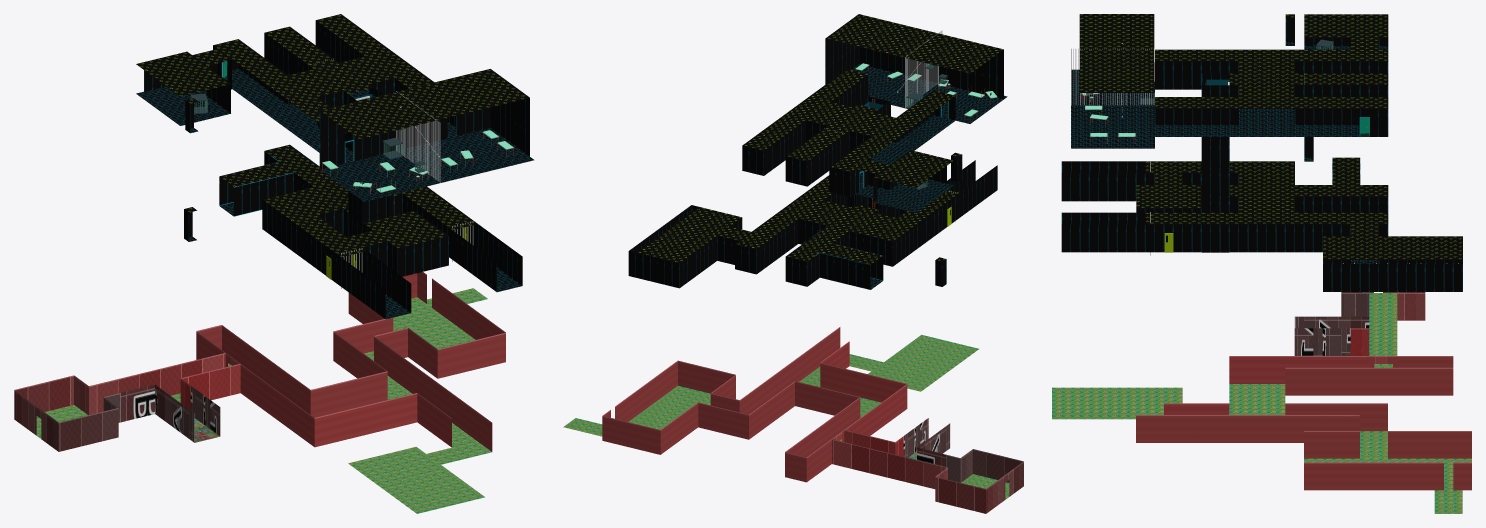
File: two_floor_house.glb
The picture shows the model from 3 angles, left to right: view 1: azimuth 30°, elevation 25°; view 2: azimuth 150°, elevation 25°; view 3: azimuth 270°, elevation 25°; orthographic projection. The views are drawn at different scales.
Parts seen in each view (by area): view 1: 000-malli, roof_2, floor_2, wall_2, roof, wall; view 2: 000-malli, roof_2, wall, wall_2, roof, floor_2; view 3: 000-malli, roof_2, roof, wall, floor_2, wall_2, elevatorshaft_3.002, elevatorshaft_3.003.
Part boxes in pixels (<box>): 000-malli: <box>14,272,505,513</box>; roof_2: <box>136,14,529,139</box>; floor_2: <box>136,68,534,201</box>; wall_2: <box>144,20,529,169</box>; roof: <box>219,144,477,257</box>; wall: <box>219,151,472,282</box>; 000-malli: <box>563,327,1023,513</box>; roof_2: <box>742,14,1003,187</box>; wall: <box>628,193,955,289</box>; wall_2: <box>742,38,1003,202</box>; roof: <box>636,175,959,264</box>; floor_2: <box>851,64,1007,212</box>; 000-malli: <box>1052,292,1471,513</box>; roof_2: <box>1079,14,1388,108</box>; roof: <box>1136,157,1462,259</box>; wall: <box>1136,173,1462,291</box>; floor_2: <box>1071,46,1388,148</box>; wall_2: <box>1155,38,1388,136</box>; elevatorshaft_3.002: <box>1201,169,1229,196</box>; elevatorshaft_3.003: <box>1201,141,1229,168</box>.
Size of what is drawn, in the model's own units: 56 by 41.93 by 45.
39 materials, 37 textured.
